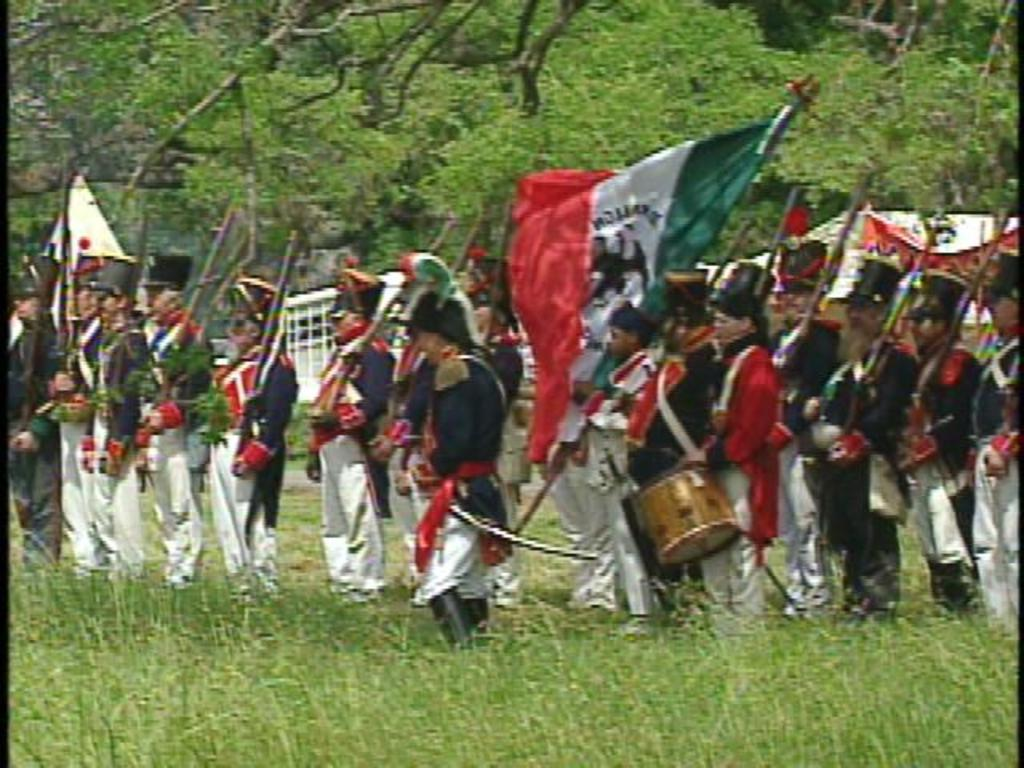Person: (11, 250, 1018, 640)
